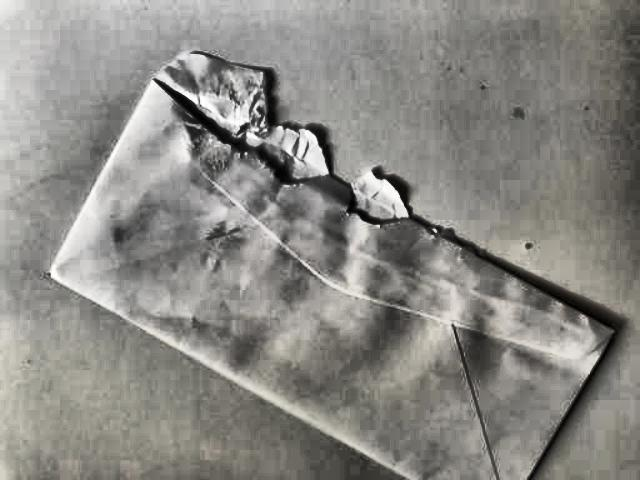Paper: (26, 44, 640, 480)
